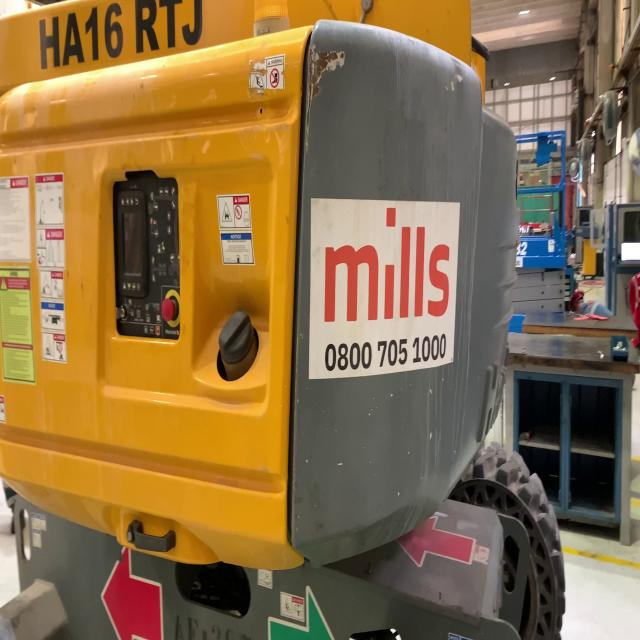Adesivos: (308, 196, 461, 383)
